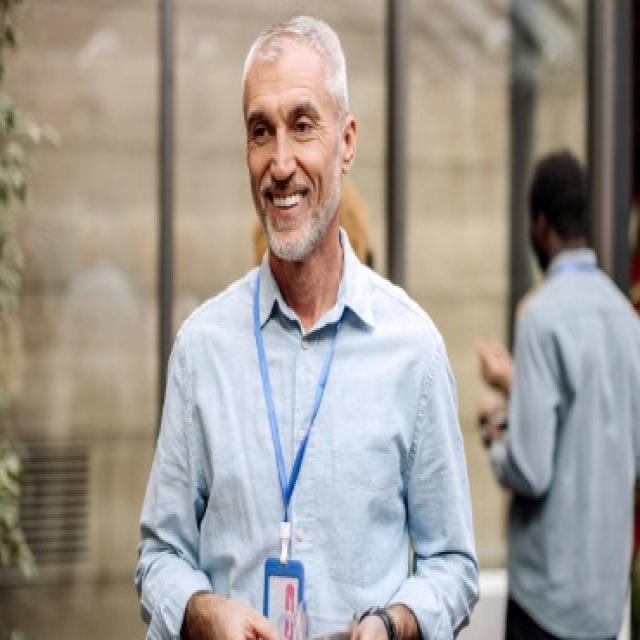adult: (134, 13, 481, 640)
